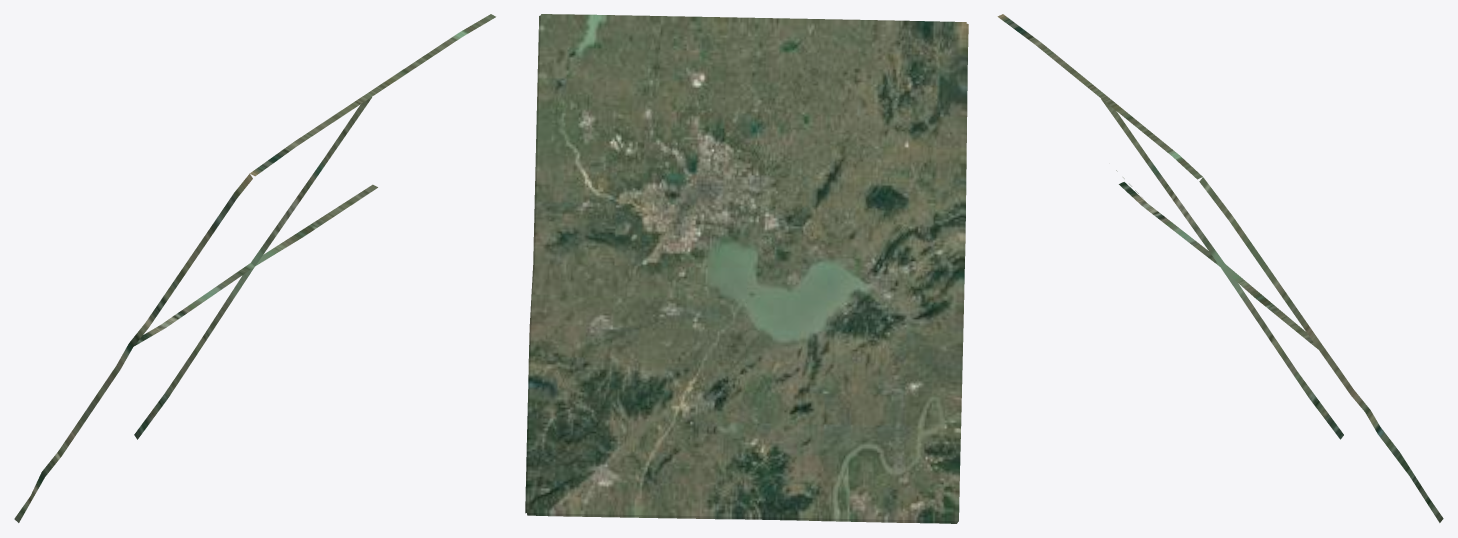
3 views of the same model, side by side, from view 1: azimuth 30°, elevation 25°; view 2: azimuth 150°, elevation 25°; view 3: azimuth 270°, elevation 25° (orthographic). The views are drawn at different scales.
Size of the model in its own units: 158512 by 135303 by 136816.
1 material, 1 textured.
